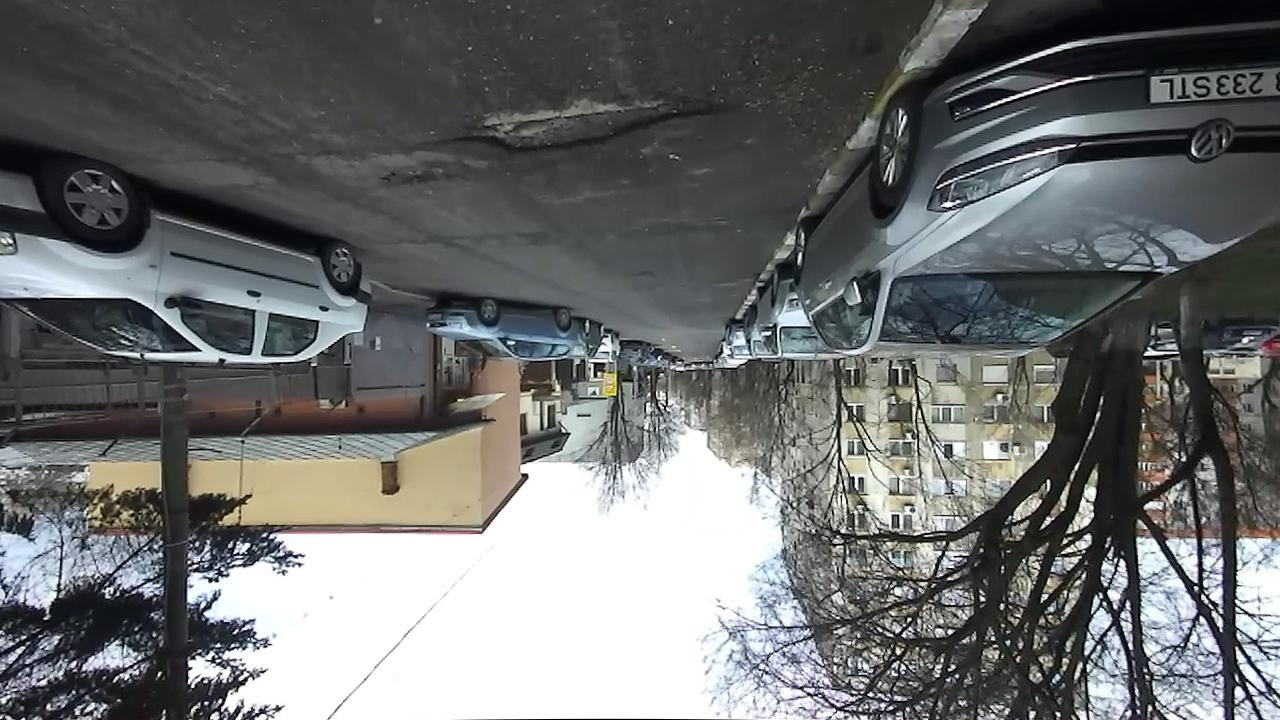pothole: (446, 78, 726, 155), (374, 160, 473, 192)
